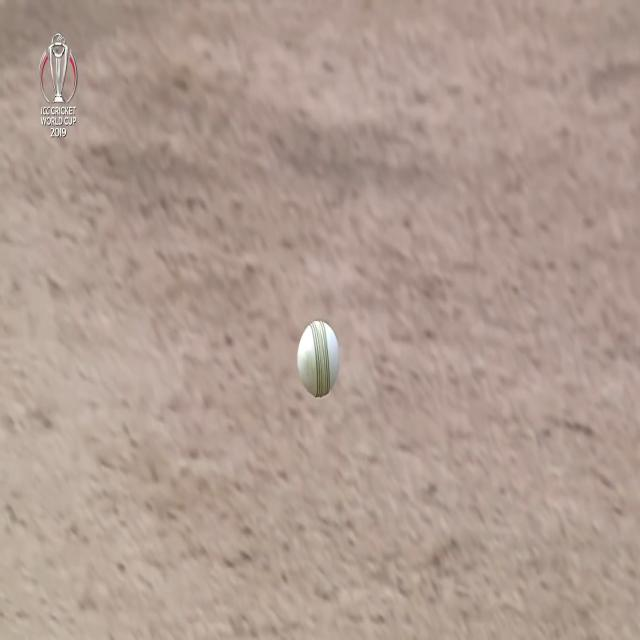Cricket ball: (296, 315, 341, 399)
